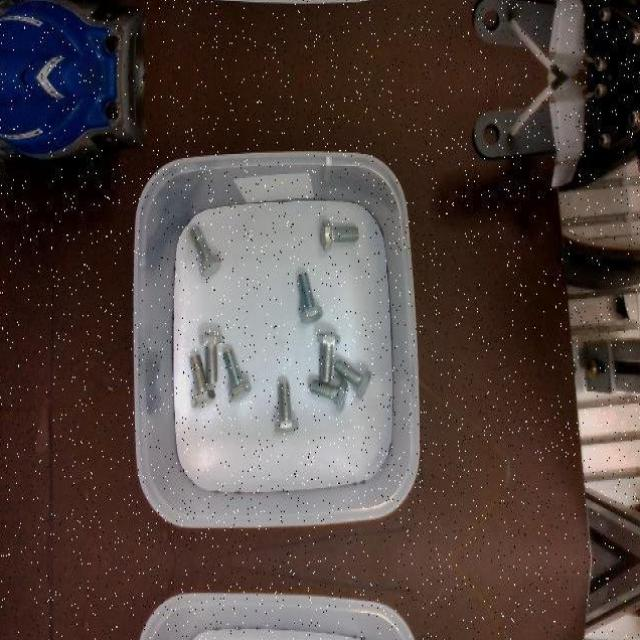screw: (190, 224, 222, 277), (334, 358, 371, 400), (224, 347, 252, 401), (274, 380, 300, 436), (190, 354, 216, 408), (309, 378, 348, 412), (297, 272, 323, 322), (200, 331, 223, 383), (320, 219, 358, 250), (317, 331, 340, 382)
